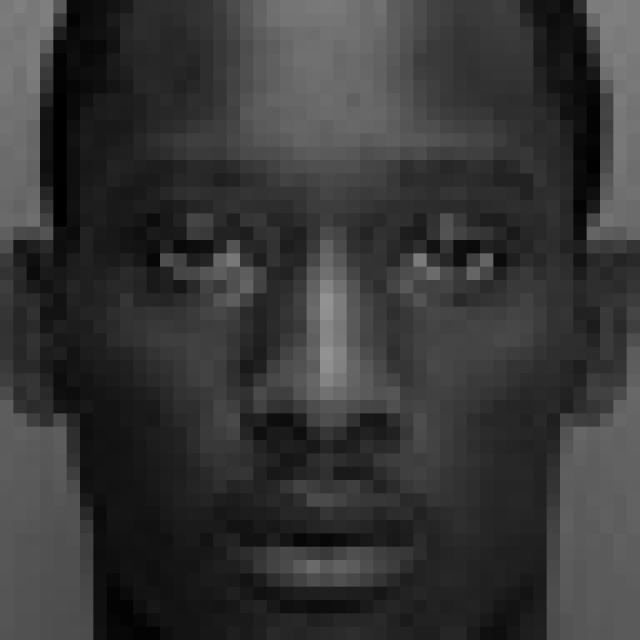neutral: (111, 148, 541, 607)
